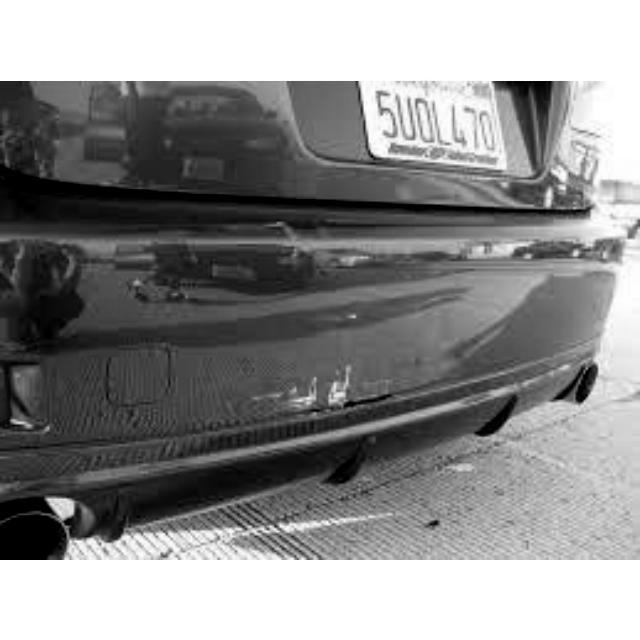rear-bumper-dent: (87, 253, 460, 453)
